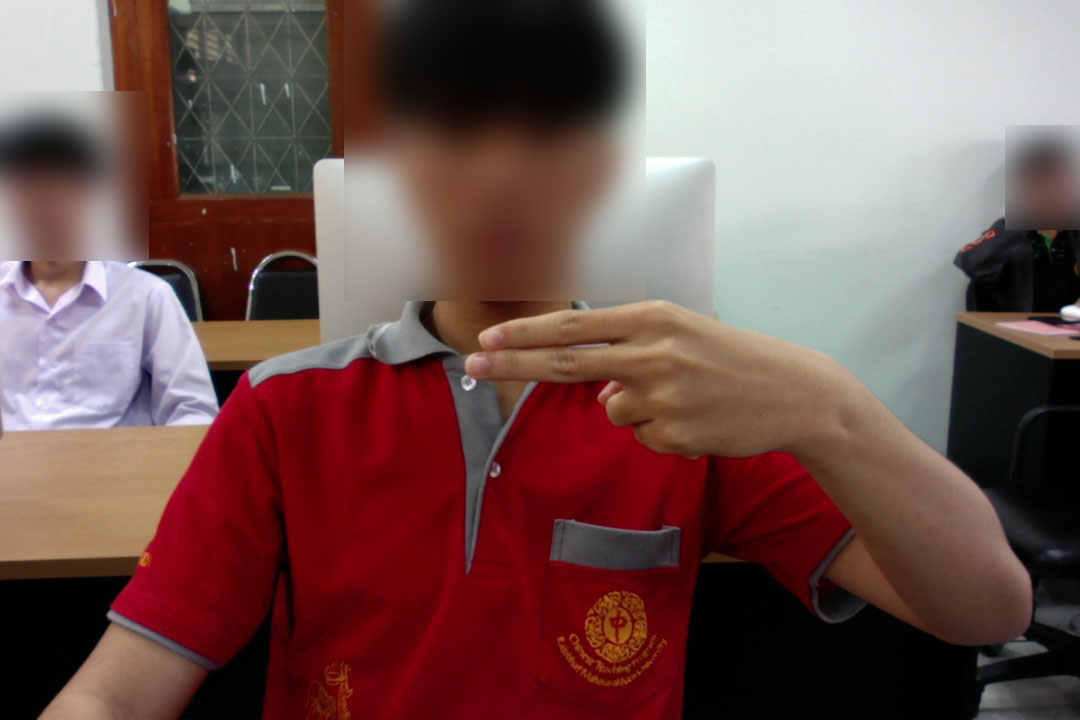hor: (462, 293, 852, 459)
